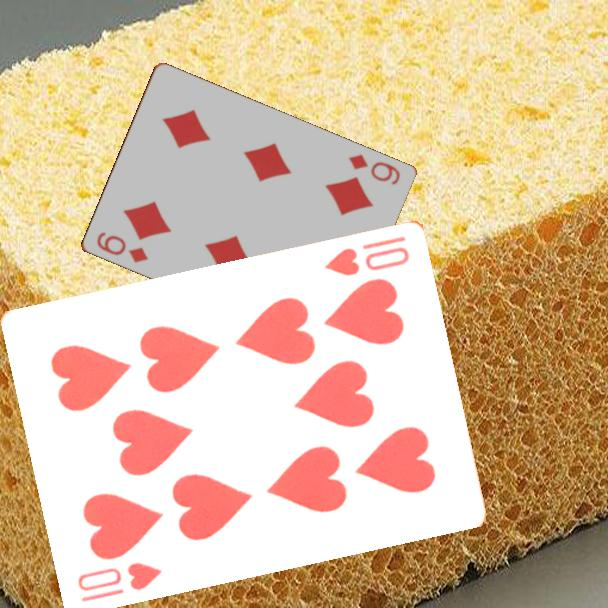d06: (92, 228, 151, 266), (344, 151, 403, 188)
h10: (321, 232, 413, 279), (74, 558, 165, 604)
